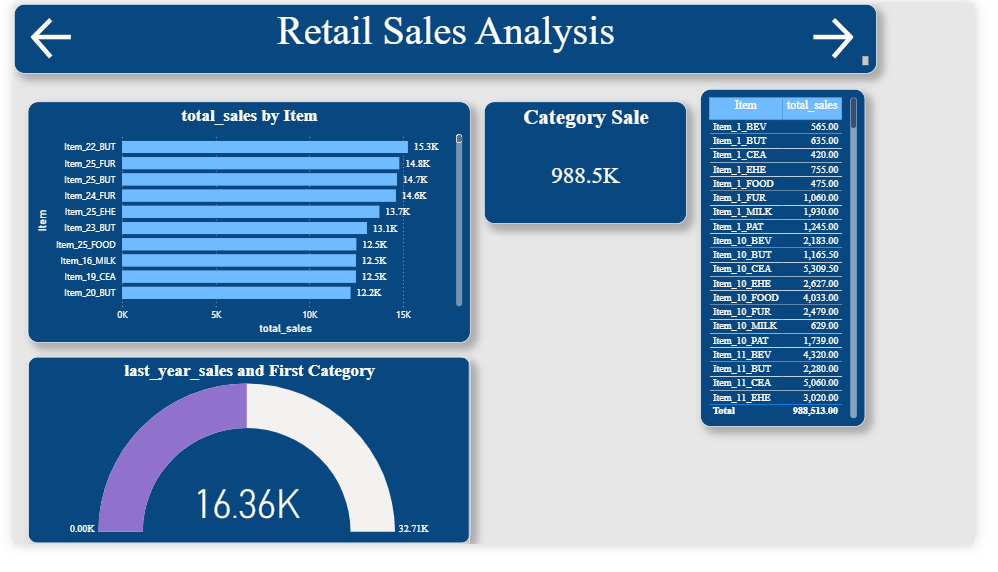

Layout of this report page (visuals, bound fields, positions):
{"tool":"powerbi","page":{"name":"Category Details ","canvas":[1280,720],"ordinal":1},"visuals":[{"type":"barChart","fields":{"Category":["retail_store_sales.Item"],"Y":["retail_store_sales.total_sales"]},"box":[18.3,130,590,321.7],"z":0},{"type":"card","title":"Category Sale","fields":{"Values":["retail_store_sales.selected_category_sales"]},"box":[626.7,130,270,163.3],"z":1000},{"type":"tableEx","fields":{"Values":["retail_store_sales.Item","retail_store_sales.total_sales"]},"box":[915,112.5,220,450],"z":2000},{"type":"textbox","title":"Retail Sales Analysis","box":[0,0,1150,92.9],"z":3000},{"type":"actionButton","box":[18.3,13.3,76.7,65],"z":4000},{"type":"actionButton","box":[1058.3,13.3,76.7,65],"z":5000},{"type":"gauge","fields":{"Y":["retail_store_sales.last_year_sales"]},"box":[18,470.5,590,249.5],"z":5001}]}

Visuals, with their boxes in screenshot pixels (x1, y1, x2, y2), scaled from the page's 1280x720 canvas onto the 998x572 screenshot:
barChart - retail_store_sales.Item x retail_store_sales.total_sales: region(14, 103, 474, 359)
"Category Sale" card: region(489, 103, 699, 233)
tableEx - retail_store_sales.Item x retail_store_sales.total_sales: region(713, 89, 885, 447)
"Retail Sales Analysis" textbox: region(0, 0, 897, 74)
actionButton: region(14, 11, 74, 62)
actionButton: region(825, 11, 885, 62)
gauge - retail_store_sales.last_year_sales: region(14, 374, 474, 571)
